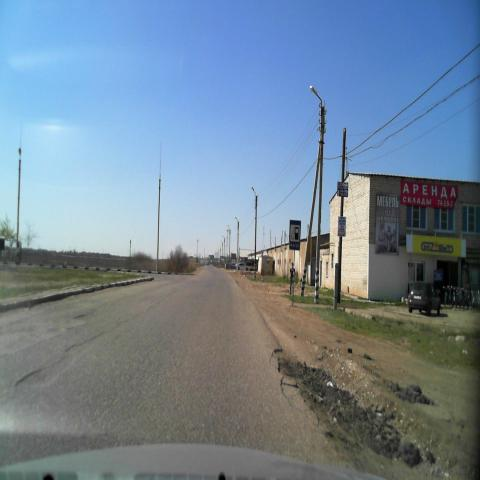7_3: (289, 220, 301, 250)
